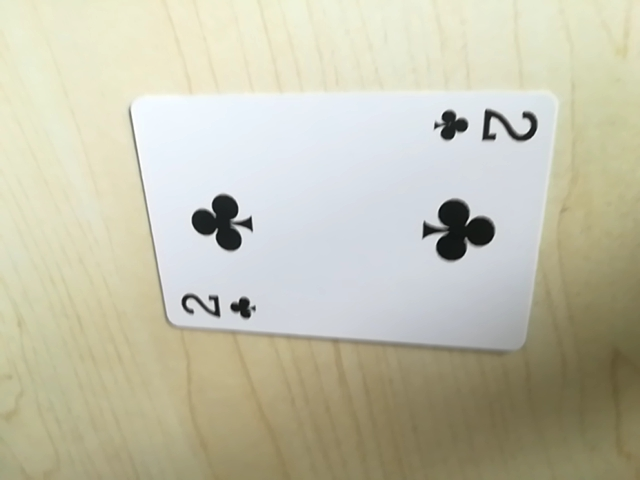mh 2: (430, 100, 540, 149), (172, 287, 261, 328)
